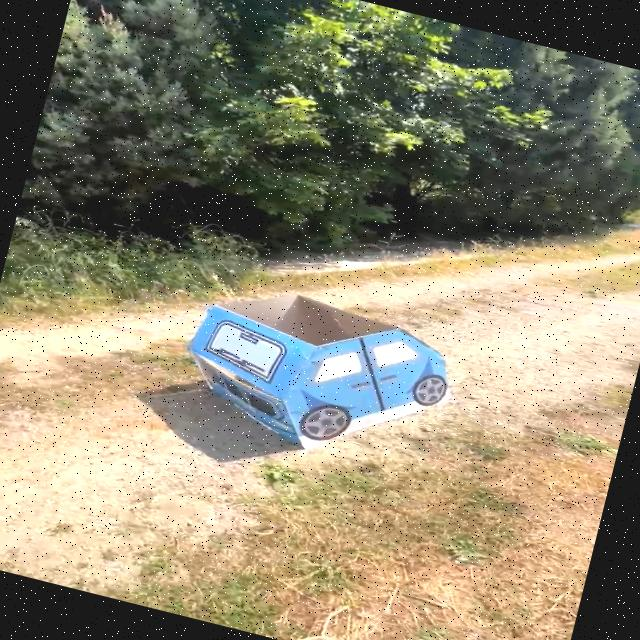blue_car: (146, 245, 494, 508)
